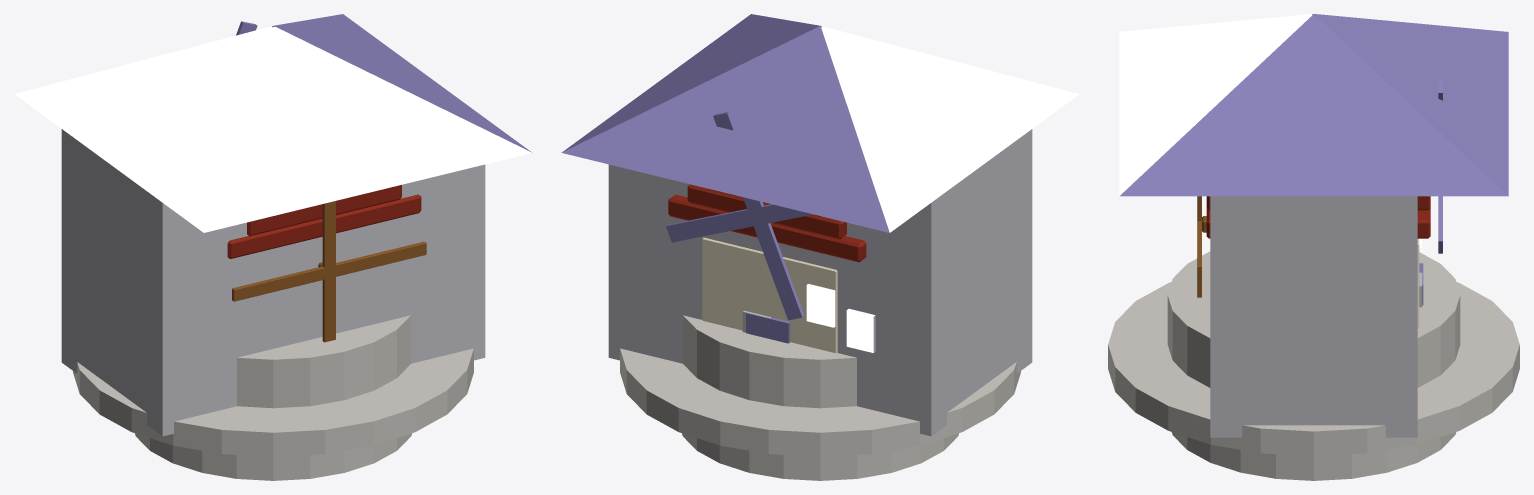
File: flagship_props_000.glb
3 renders of one model, left to right at view 1: azimuth 30°, elevation 25°; view 2: azimuth 150°, elevation 25°; view 3: azimuth 270°, elevation 25°, orthographic. The views are drawn at different scales.
Visible parts, largest first — view 1: Bld_Orr_Water_Mill, Cylinder.002, Cylinder.004, Bld_Mill; view 2: Bld_Orr_Water_Mill, Cylinder.002, Cylinder.004, Bld_Mill; view 3: Bld_Orr_Water_Mill, Cylinder.002, Cylinder.004, Bld_Mill.
Boxes of the visible parts, x1,y1,x2,y2 form: Bld_Orr_Water_Mill: (14, 14, 532, 436); Cylinder.002: (73, 348, 473, 456); Cylinder.004: (135, 315, 411, 480); Bld_Mill: (227, 185, 426, 342); Bld_Orr_Water_Mill: (561, 14, 1079, 436); Cylinder.002: (620, 348, 1020, 456); Cylinder.004: (682, 315, 958, 480); Bld_Mill: (668, 184, 866, 353); Bld_Orr_Water_Mill: (1119, 14, 1508, 437); Cylinder.002: (1108, 282, 1519, 456); Cylinder.004: (1167, 251, 1460, 480); Bld_Mill: (1197, 196, 1430, 328).
Bounding box in the file's own units: 9 × 9.76 × 9.
